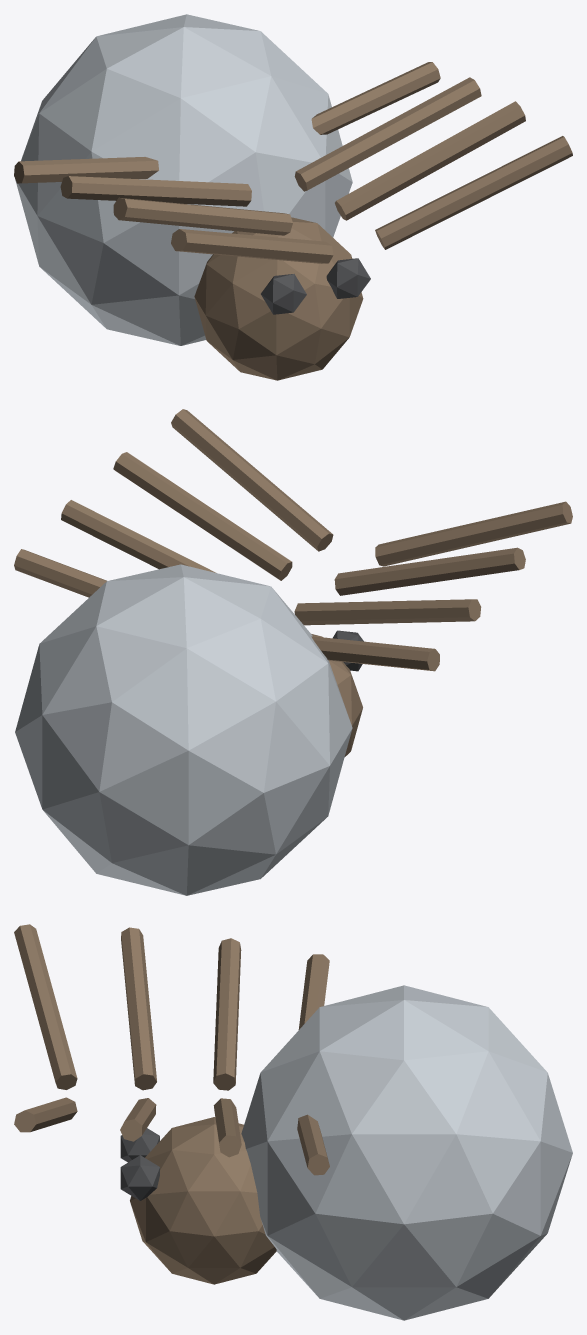
Rendered from leucauge-fastigata.glb.
3 views of the same model, one above another, from view 1: azimuth 30°, elevation 25°; view 2: azimuth 150°, elevation 25°; view 3: azimuth 270°, elevation 25° (orthographic).
Parts seen in each view (by area): view 1: abdomen, cephalothorax, leg01, leg11, leg21, leg2-1, leg1-1, leg0-1, leg31, leg3-1, eye-1, eye1; view 2: abdomen, leg11, leg0-1, leg01, leg1-1, leg2-1, leg21, leg3-1, leg31, cephalothorax; view 3: abdomen, cephalothorax, leg0-1, leg1-1, leg2-1, leg3-1, leg01, eye1, leg31, leg21, leg11, eye-1.
Part boxes in pixels (bbox=[...]): abdomen: bbox=[15, 14, 352, 345]; cephalothorax: bbox=[194, 217, 363, 380]; leg01: bbox=[375, 136, 572, 249]; leg11: bbox=[335, 101, 525, 220]; leg21: bbox=[294, 77, 481, 191]; leg2-1: bbox=[60, 176, 251, 206]; leg1-1: bbox=[113, 197, 292, 235]; leg0-1: bbox=[171, 229, 333, 263]; leg31: bbox=[311, 62, 440, 134]; leg3-1: bbox=[14, 157, 158, 183]; eye-1: bbox=[261, 274, 306, 314]; eye1: bbox=[326, 258, 370, 298]; abdomen: bbox=[15, 564, 352, 895]; leg11: bbox=[113, 452, 292, 580]; leg0-1: bbox=[375, 501, 572, 566]; leg01: bbox=[171, 409, 333, 551]; leg1-1: bbox=[334, 547, 525, 595]; leg2-1: bbox=[294, 599, 481, 625]; leg21: bbox=[61, 500, 215, 572]; leg3-1: bbox=[311, 636, 439, 671]; leg31: bbox=[14, 549, 106, 597]; cephalothorax: bbox=[311, 634, 362, 756]; abdomen: bbox=[241, 985, 572, 1320]; cephalothorax: bbox=[130, 1117, 276, 1284]; leg0-1: bbox=[14, 924, 77, 1089]; leg1-1: bbox=[121, 927, 156, 1090]; leg2-1: bbox=[213, 938, 241, 1090]; leg3-1: bbox=[298, 954, 329, 1029]; leg01: bbox=[14, 1097, 77, 1132]; eye1: bbox=[120, 1155, 159, 1200]; leg31: bbox=[297, 1114, 329, 1175]; leg21: bbox=[213, 1098, 241, 1157]; leg11: bbox=[120, 1098, 156, 1141]; eye-1: bbox=[120, 1128, 159, 1162].
Bounding box in the file's own units: 0.4572 × 0.32 × 0.5297.
